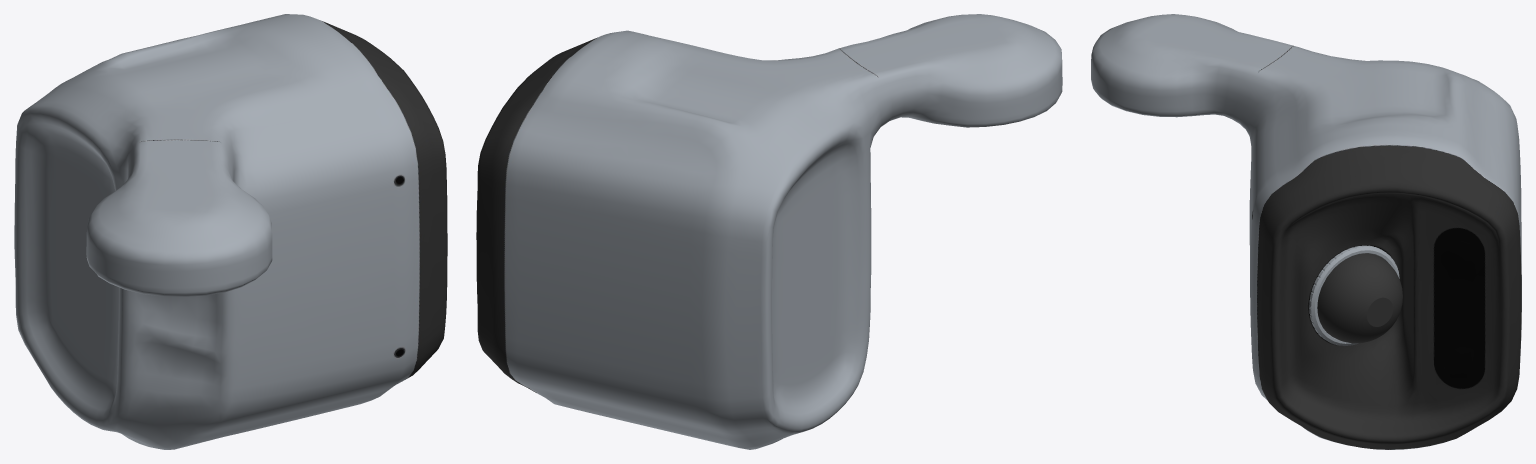
The model's file is head_link2.dae.
The picture shows the model from 3 angles, left to right: view 1: azimuth 30°, elevation 25°; view 2: azimuth 150°, elevation 25°; view 3: azimuth 270°, elevation 25°; orthographic projection. The views are drawn at different scales.
Visible parts, largest first — view 1: geom0; view 2: geom0; view 3: geom0, geom1, geom2.
Boxes of the visible parts, x1,y1,x2,y2 form: geom0: (14,14,447,449); geom0: (476,14,1062,449); geom0: (1091,14,1521,449); geom1: (1317,253,1402,343); geom2: (1309,245,1399,345).
Bounding box in the file's own units: 0.1975 × 0.2065 × 0.1653.
3 materials, 1 textured.
